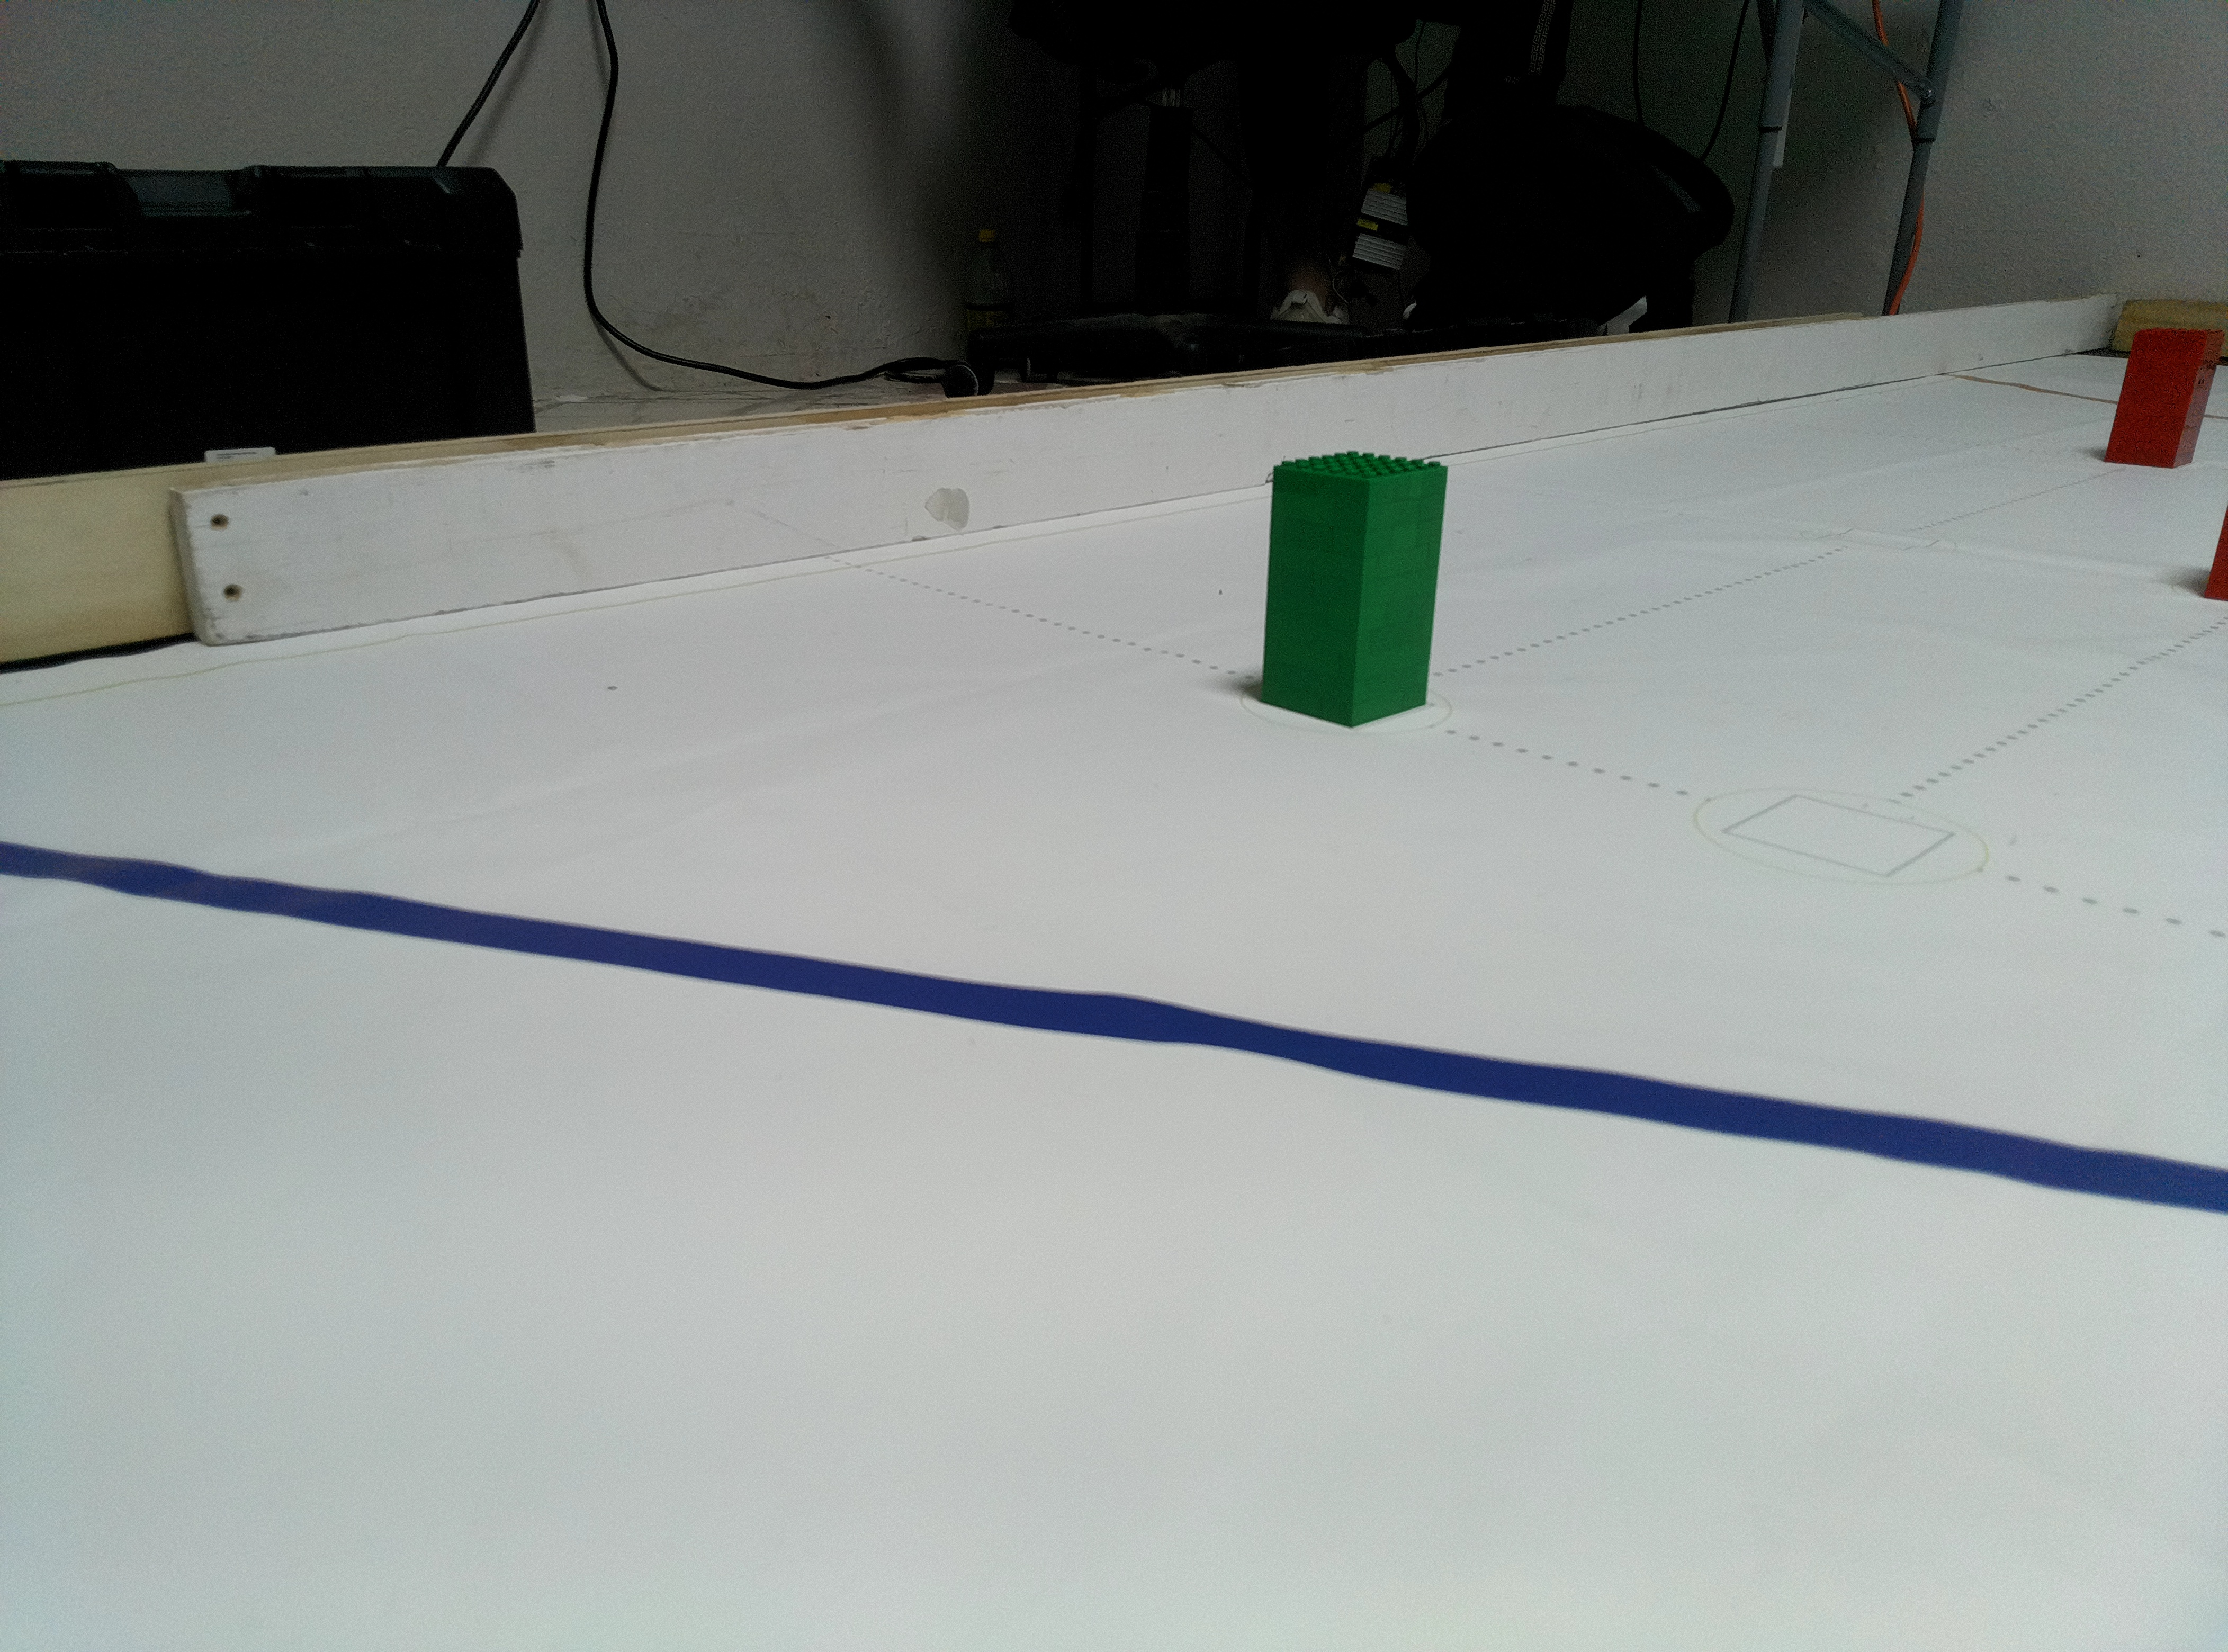greenbox: (1256, 448, 1451, 731)
redbox: (2103, 314, 2226, 467), (2204, 500, 2228, 604)
